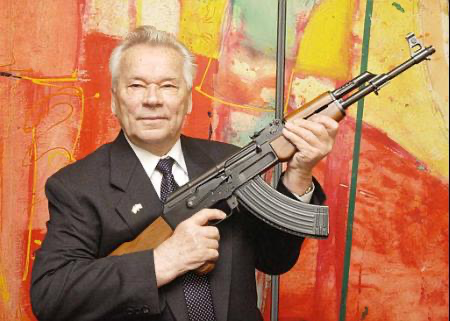Face: (109, 36, 196, 145)
